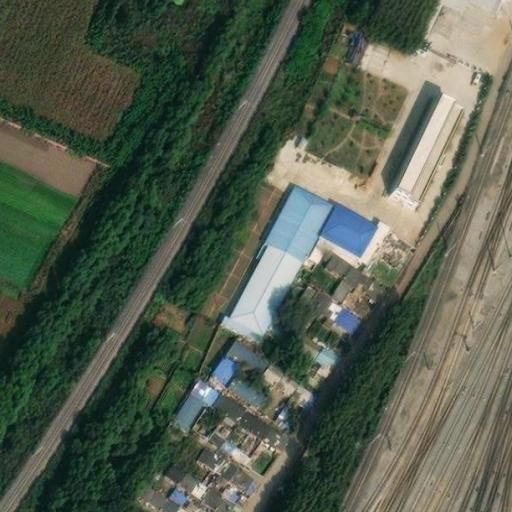building: (222, 236, 301, 335), (266, 175, 338, 257), (391, 95, 450, 195), (407, 102, 460, 200), (263, 311, 341, 364), (259, 355, 315, 422), (294, 276, 361, 325), (175, 373, 244, 419), (322, 196, 379, 249), (199, 438, 259, 487), (212, 332, 270, 379), (236, 402, 289, 445), (323, 246, 366, 298), (164, 455, 209, 498), (227, 364, 272, 405), (139, 475, 182, 510), (200, 479, 241, 512), (342, 29, 368, 65), (316, 50, 341, 74), (173, 498, 202, 512)
